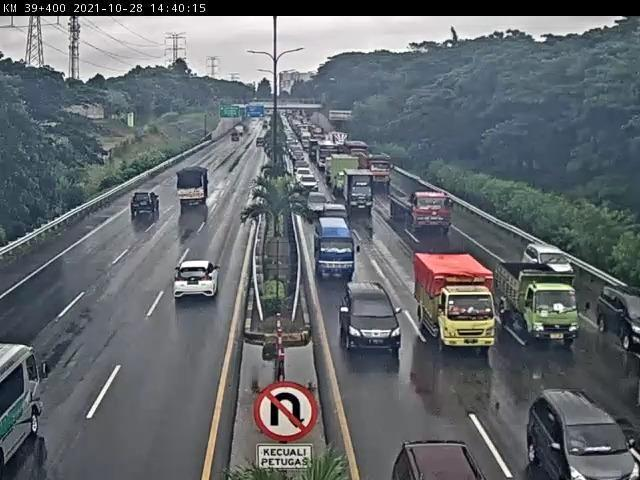bus: (2, 342, 45, 474), (314, 219, 356, 280)
car: (527, 390, 640, 480), (343, 285, 404, 351), (596, 284, 640, 348), (524, 244, 578, 280), (176, 262, 222, 301), (133, 192, 163, 219), (324, 205, 350, 230), (305, 194, 331, 218)
truck: (417, 251, 499, 348), (495, 256, 579, 343), (389, 186, 455, 233), (347, 170, 376, 218), (179, 169, 212, 207)
